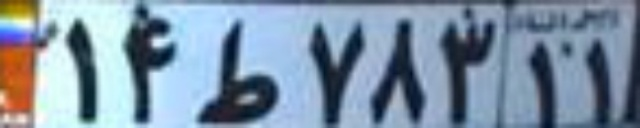1: (60, 18, 103, 121), (521, 41, 555, 127), (579, 39, 611, 124)
3: (433, 19, 495, 126)
4: (120, 18, 176, 123)
7: (307, 19, 366, 124)
8: (370, 19, 426, 122)
taa: (196, 15, 278, 123)
